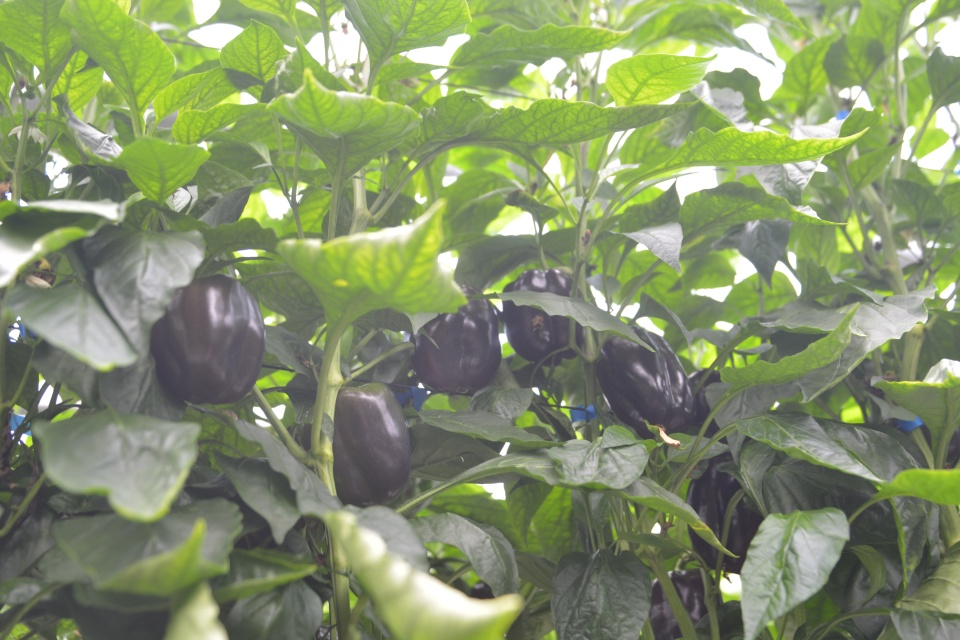flower: (7, 120, 48, 148)
fruit: (148, 274, 267, 408), (296, 384, 412, 509), (594, 325, 694, 441), (408, 284, 501, 398), (685, 453, 764, 574), (501, 267, 585, 366), (648, 566, 724, 640), (687, 366, 754, 444)
